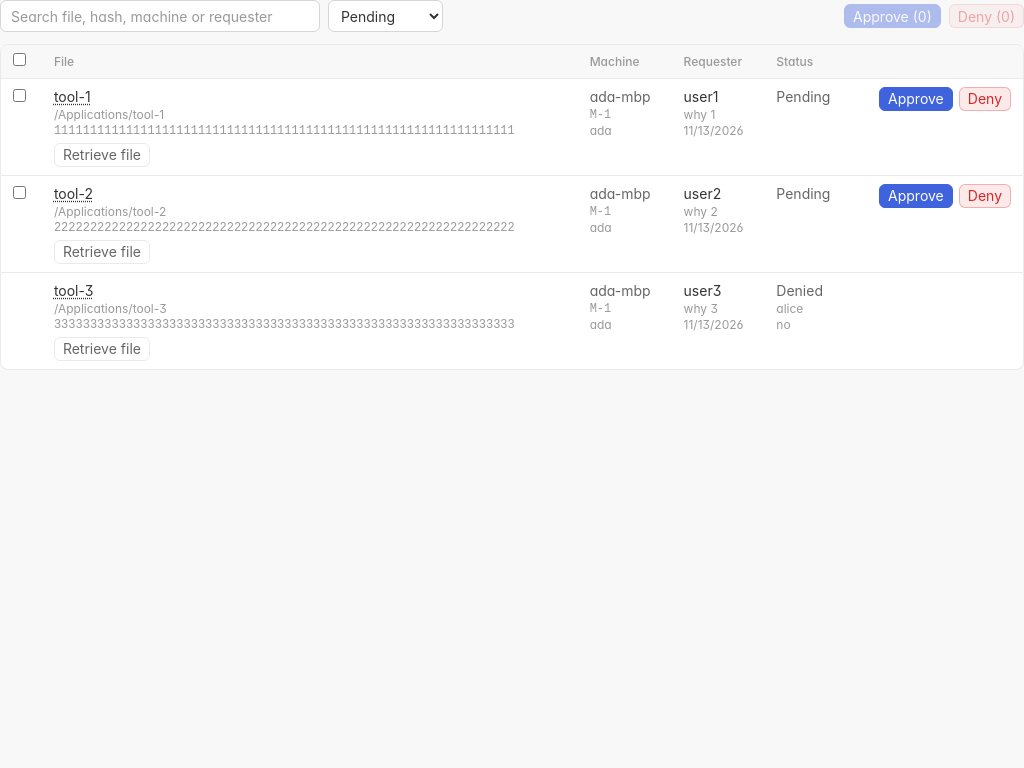
Test: RequestsTab › approves for a tag, and keeps the dialog open with the error when one fails
The width and height of the screenshot is (1024, 768).
Expected: the button "tool-1" is shown, x1=54 y1=87 x2=91 y2=107
Click the checkbox named "Select all".
click(20, 60)  # box x1=13 y1=53 x2=26 y2=66
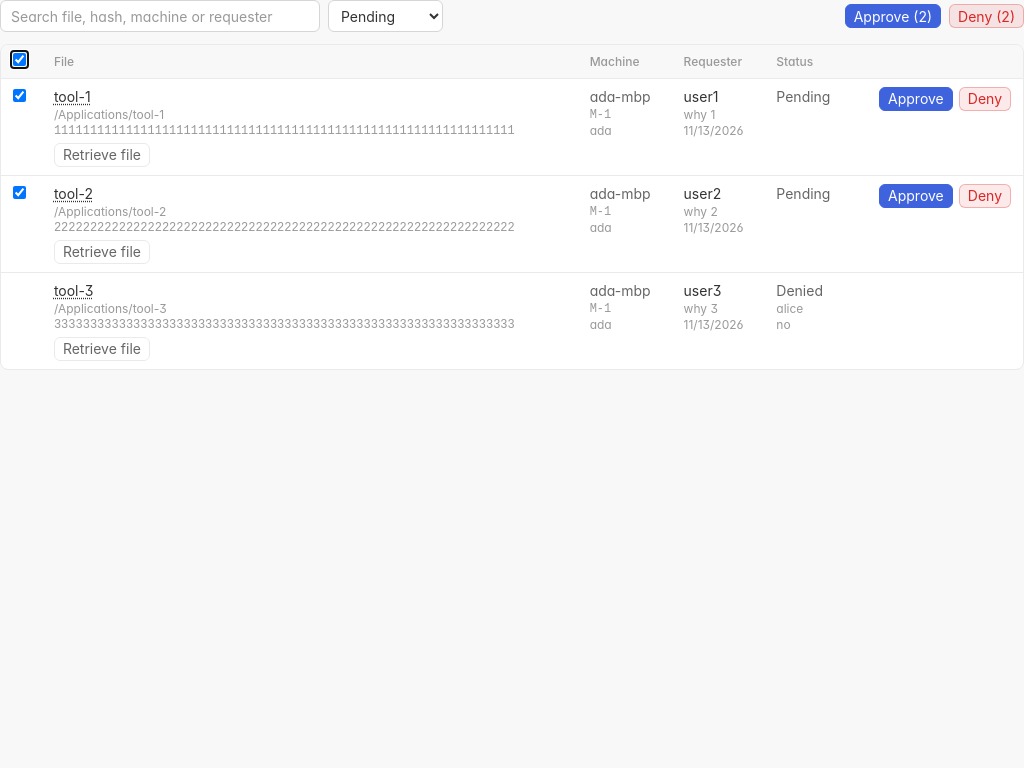
Click the button "Approve (2)".
click(893, 16)  # box x1=845 y1=4 x2=941 y2=28
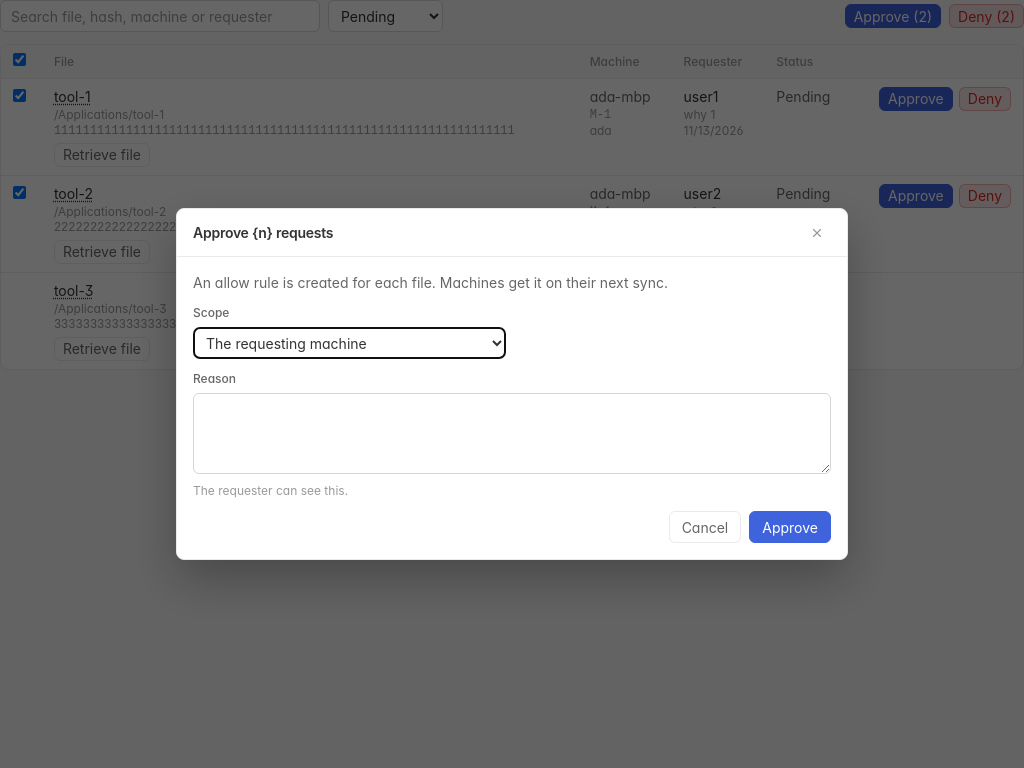
Select "Tag" in the dropdown labelled "Scope" at x=350, y=343, box x1=193 y1=327 x2=506 y2=359
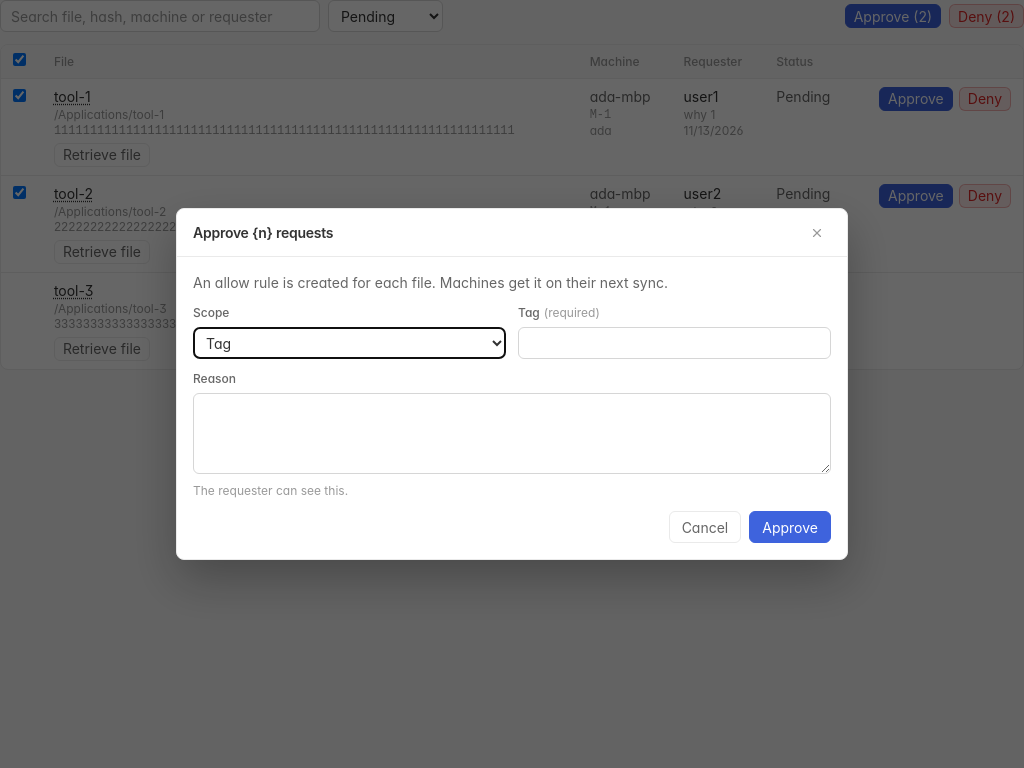
Type "dev" into the field labelled "Tag(required)".
click(674, 343); type("dev")  # box x1=518 y1=327 x2=831 y2=359
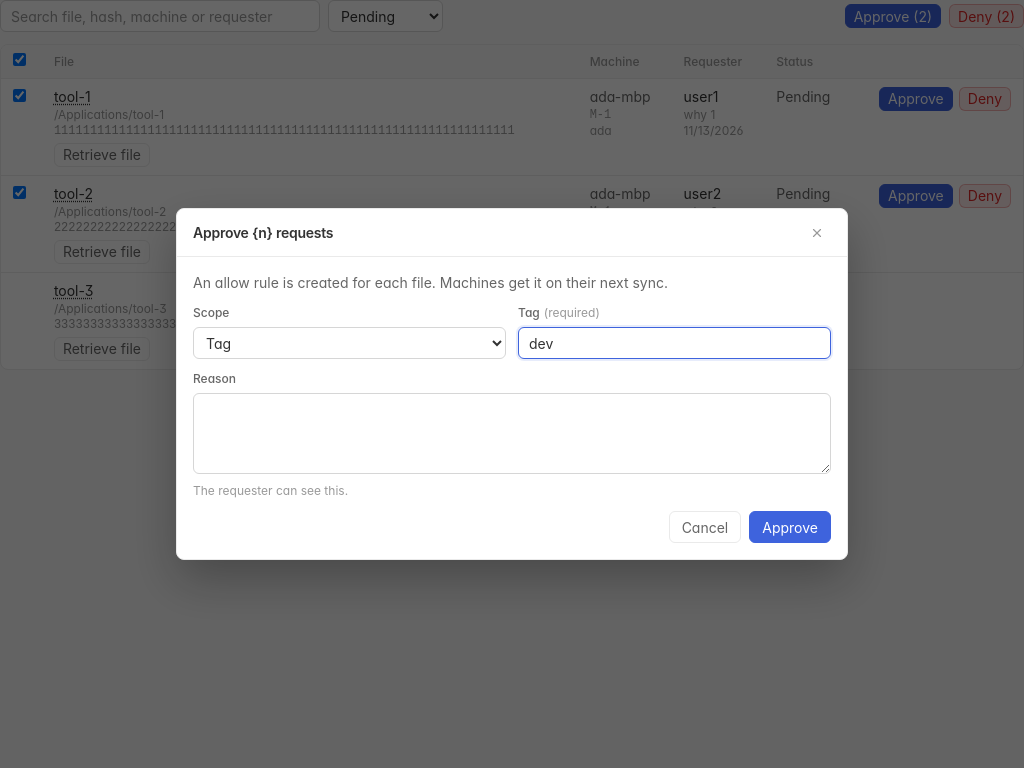
Click the button "Approve".
click(790, 527)  # box x1=749 y1=511 x2=831 y2=543
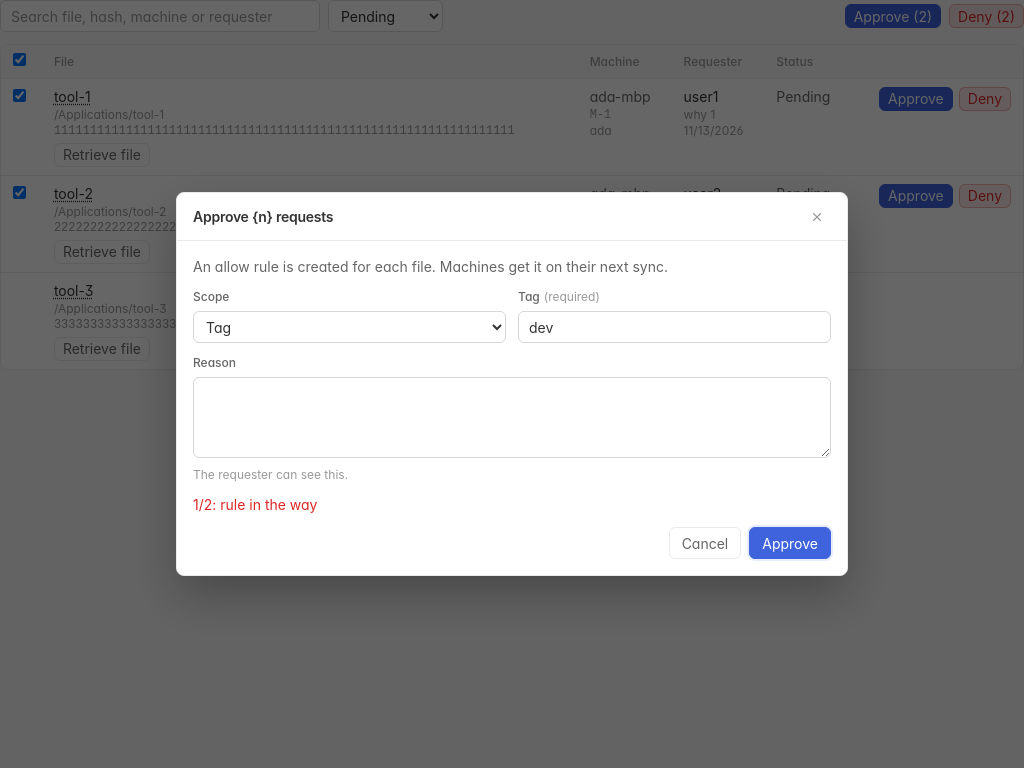
Result: the message reads "1/2: rule in the way" at x1=193 y1=496 x2=318 y2=513
